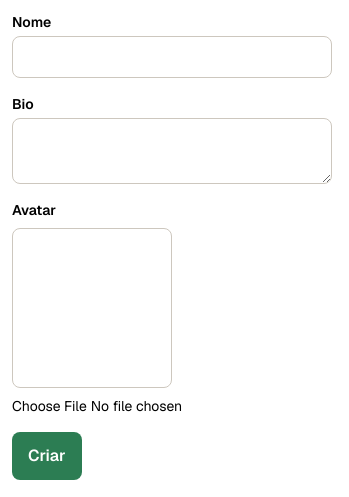
Test: AuthorForm › sem avatarUrl inicial: mostra o fallback de iniciais (nunca vazio), acompanhando o nome digitado
Type "Ana Silva" into the field labelled "Nome" at [172, 57], box [12,36,332,78]
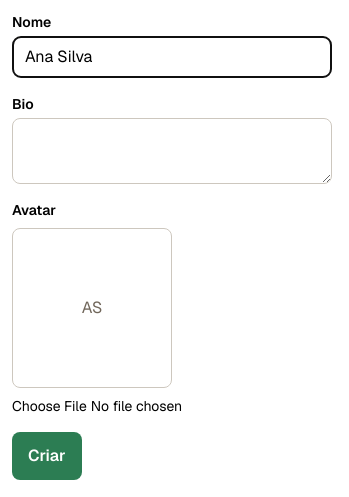
Now the text "AS" is shown, box [82,296,102,320]
